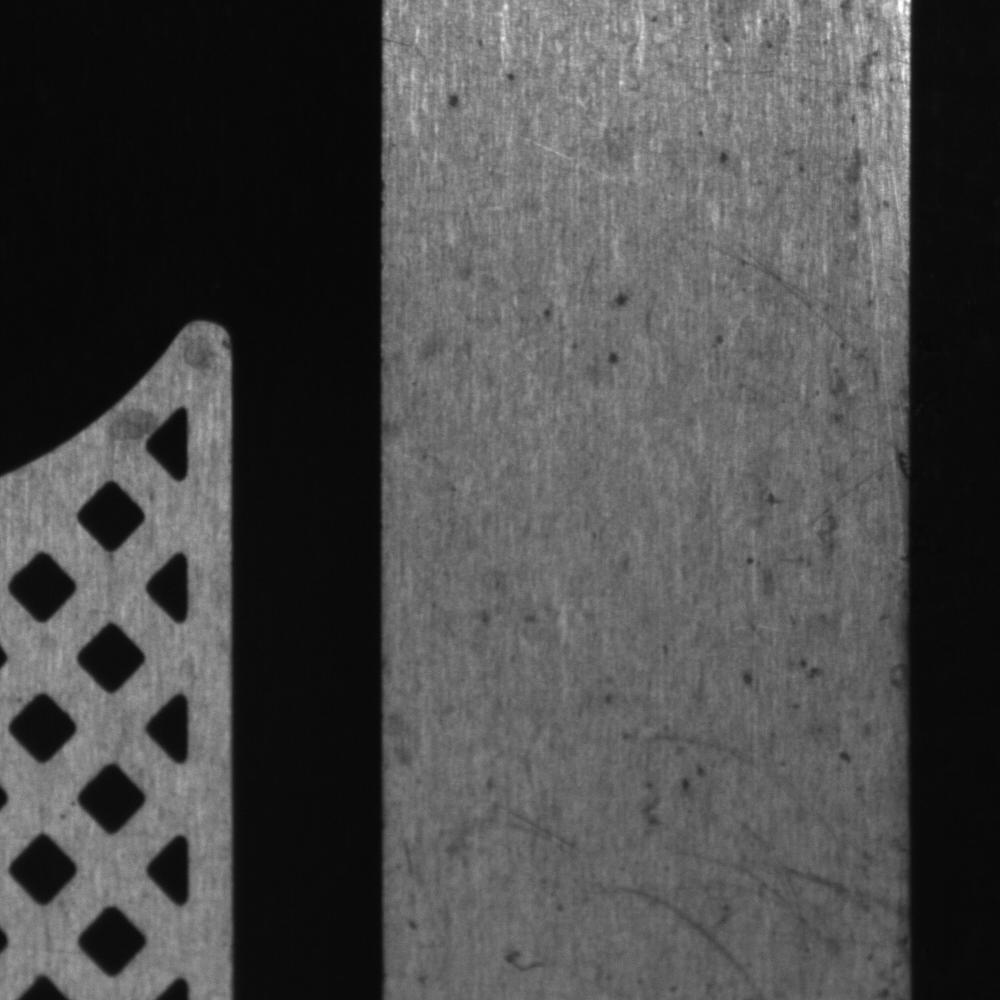Discolor: (380, 651, 442, 791), (827, 134, 875, 231), (177, 317, 237, 387), (107, 401, 160, 451)
Etching: (638, 761, 711, 825), (699, 130, 752, 173), (793, 640, 839, 688)
Pinhole: (598, 334, 633, 379), (601, 277, 641, 316), (437, 88, 471, 112), (537, 297, 562, 327)
Scar: (627, 717, 860, 843), (693, 237, 902, 375), (606, 877, 771, 994), (466, 784, 592, 860), (794, 450, 903, 535), (781, 859, 884, 948), (644, 48, 878, 84), (769, 376, 890, 443), (385, 28, 433, 77)
